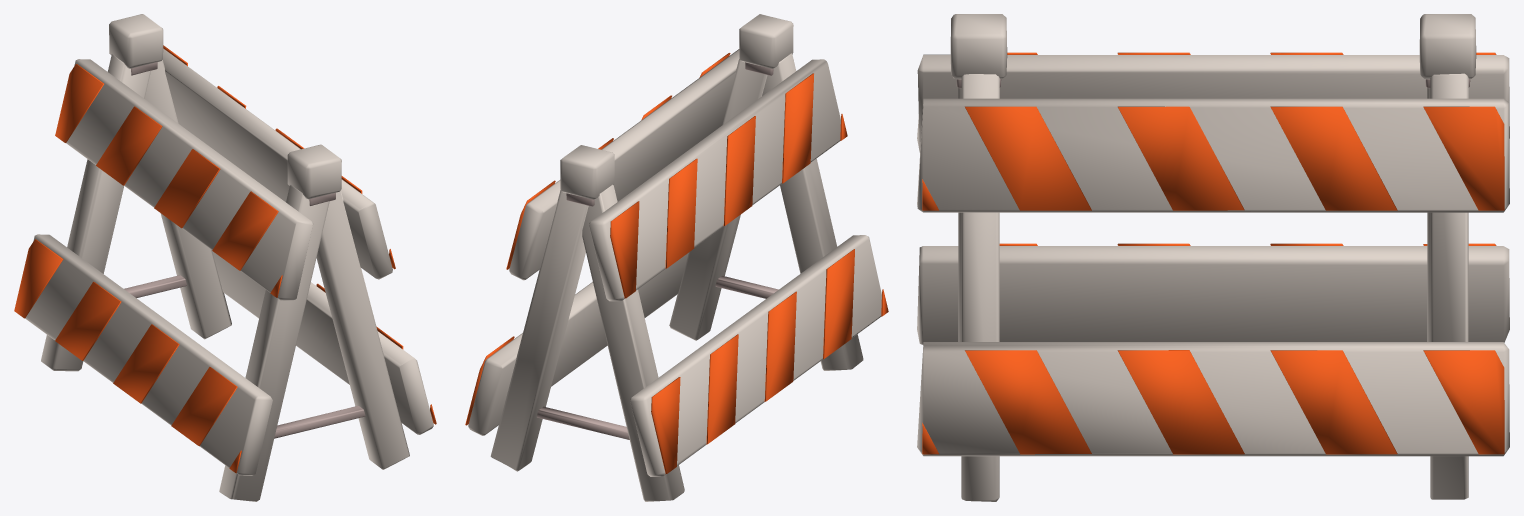
3 renders of one model, left to right at view 1: azimuth 30°, elevation 25°; view 2: azimuth 150°, elevation 25°; view 3: azimuth 270°, elevation 25°, orthographic. The views are drawn at different scales.
Parts seen in each view (by area): view 1: body, object 2; view 2: body, object 2; view 3: body, object 2.
Part boxes in pixels (x1,y1,x2,y2): body: (25,14,433,501); object 2: (14,45,436,473); body: (468,14,881,501); object 2: (465,53,888,473); body: (917,14,1509,501); object 2: (922,52,1504,454).
Bounding box in the file's own units: 1.16 × 1.8 × 2.25.
